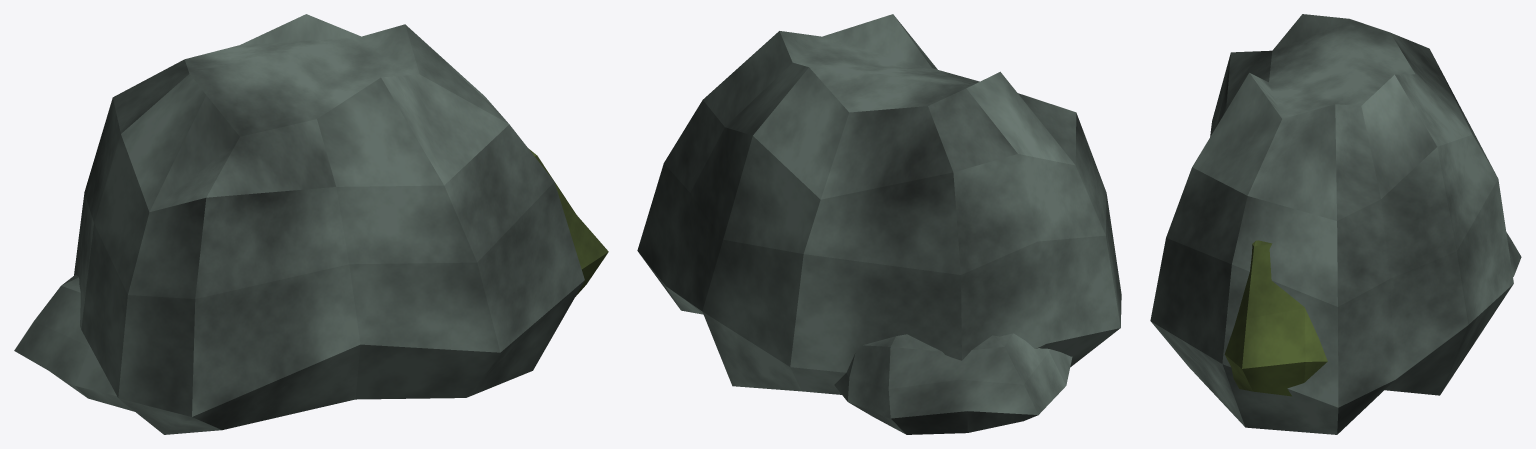
Rendered from rock2.glb.
3 renders of one model, left to right at view 1: azimuth 30°, elevation 25°; view 2: azimuth 150°, elevation 25°; view 3: azimuth 270°, elevation 25°, orthographic. The views are drawn at different scales.
Visible parts, largest first — view 1: rock2; view 2: rock2; view 3: rock2.
Boxes of the visible parts, box(x1,y1,x2,y2) form: rock2: box(14, 14, 608, 434); rock2: box(637, 14, 1121, 434); rock2: box(1150, 14, 1521, 434).
Size of the model in its own units: 2.37 by 1.56 by 1.77.
2 materials, 2 textured.
